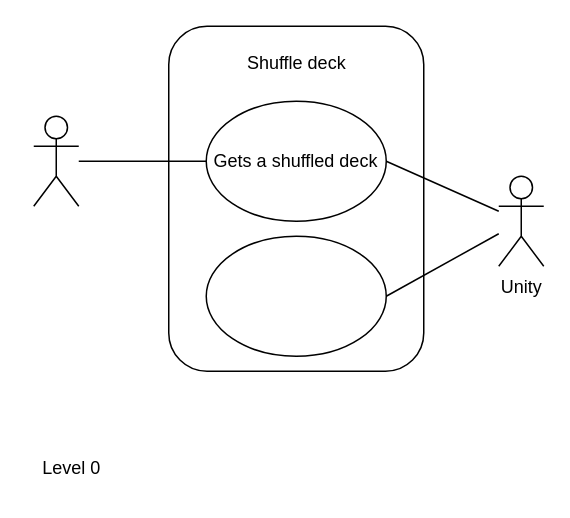
The diagram is 570 pixels wide and 518 high, and some of its shapes have lost their labels. The shapes that lost their labels are listed below. From the top down, each one's centre as x and y in pixels, then its label:
point 55,160: Player
point 295,295: The deck is shuffled
